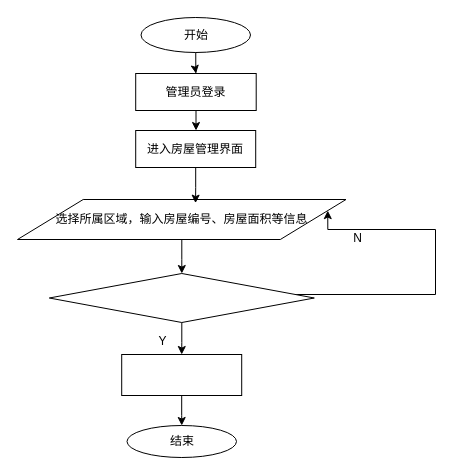
This 461x475 diagram has some shape labels left out. The shapes that lost their labels are listed below. From the top down, each one's centre as x and y in pixels, then its label:
(181,297): 验证房屋编号、房屋面积等信息是否有效
(181,375): 修改房屋成功
